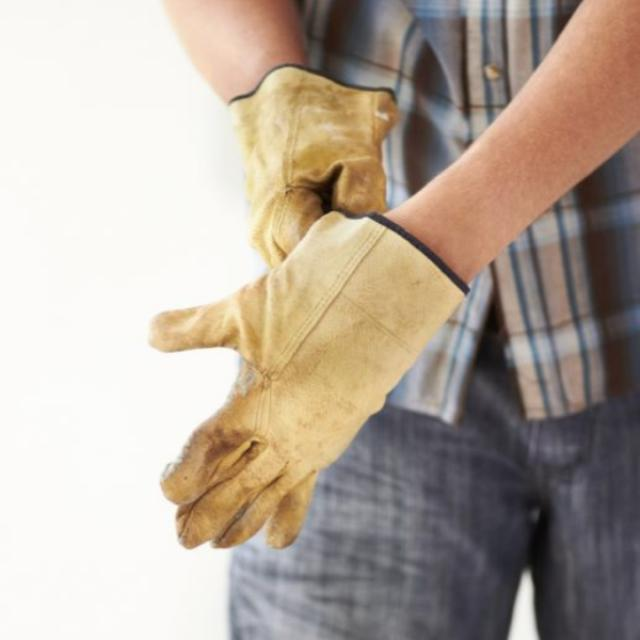gloves: (144, 209, 469, 550), (224, 65, 399, 271)
